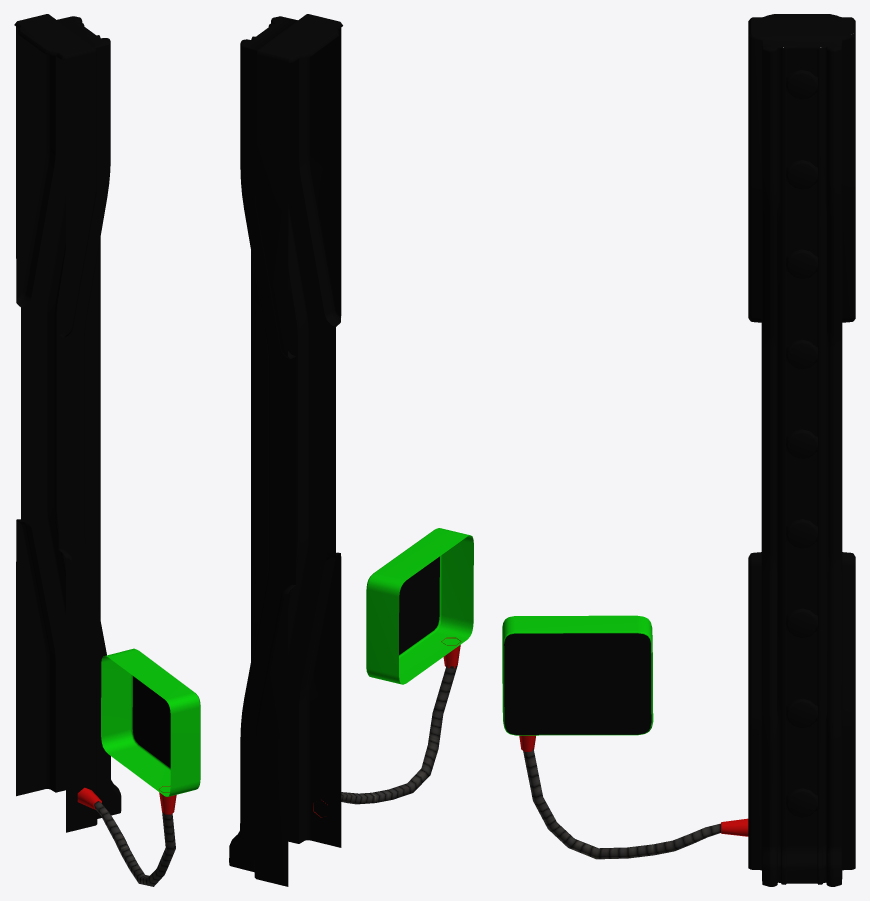
Rendered from prop_laserFence.fbx.
3 views of the same model, side by side, from view 1: azimuth 30°, elevation 25°; view 2: azimuth 150°, elevation 25°; view 3: azimuth 270°, elevation 25° (orthographic). The views are drawn at different scales.
Visible parts, largest first — view 1: prop_laserFence_emitter, prop_laserFence_power, prop_laserFence_wire; view 2: prop_laserFence_emitter, prop_laserFence_power, prop_laserFence_wire; view 3: prop_laserFence_emitter, prop_laserFence_power, prop_laserFence_wire.
Boxes of the visible parts, <box> form: prop_laserFence_emitter: <box>14,14,121,832</box>; prop_laserFence_power: <box>101,648,200,814</box>; prop_laserFence_wire: <box>94,801,175,886</box>; prop_laserFence_emitter: <box>229,14,342,886</box>; prop_laserFence_power: <box>366,528,473,684</box>; prop_laserFence_wire: <box>341,665,457,804</box>; prop_laserFence_emitter: <box>721,14,855,886</box>; prop_laserFence_power: <box>502,615,653,751</box>; prop_laserFence_wire: <box>523,748,720,859</box>.
Size of the model in its own units: 23.59 by 233 by 89.24.
